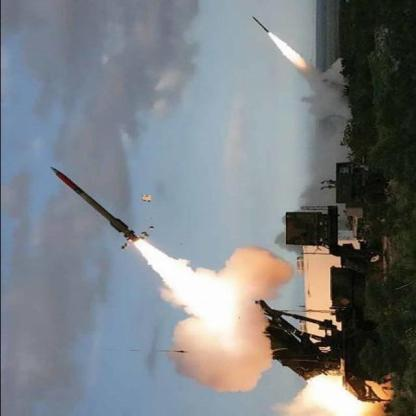MIL_TBM: (43, 166, 141, 252), (248, 16, 274, 34)
